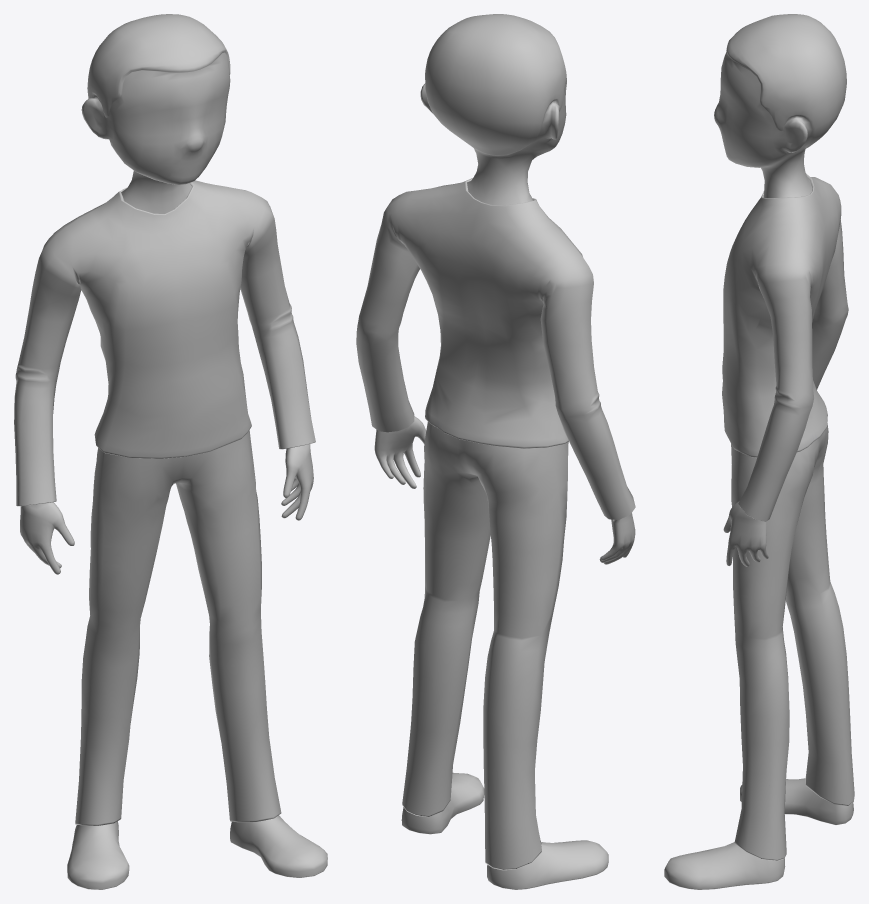
The model's file is teste.glb.
The picture shows the model from 3 angles, left to right: view 1: azimuth 30°, elevation 25°; view 2: azimuth 150°, elevation 25°; view 3: azimuth 270°, elevation 25°; orthographic projection. The views are drawn at different scales.
Visible parts, largest first — view 1: mesh_id27; view 2: mesh_id27; view 3: mesh_id27.
Part boxes in pixels (x1,y1,x2,y2): mesh_id27: (14, 14, 327, 889); mesh_id27: (356, 14, 635, 889); mesh_id27: (664, 14, 854, 889).
Bounding box in the file's own units: 0.1104 × 0.316 × 0.0673.
1 material, 1 textured.
